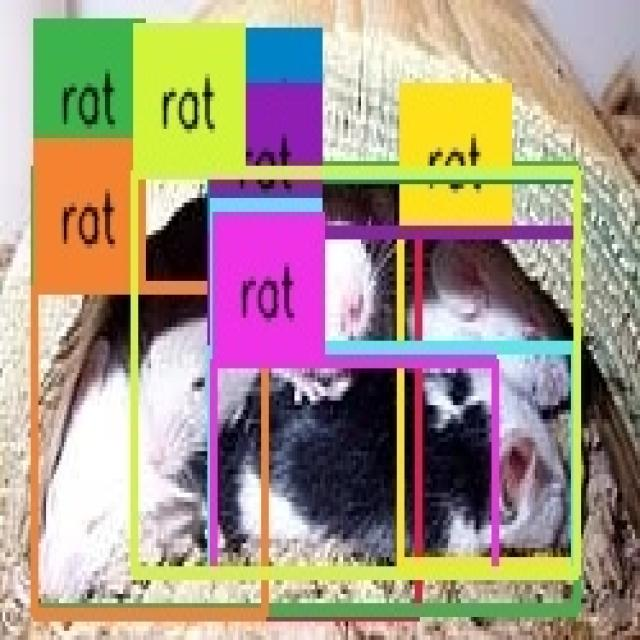rat: (35, 168, 577, 610), (136, 173, 576, 573), (34, 172, 418, 614), (211, 177, 577, 574), (211, 233, 577, 573), (212, 348, 576, 573), (35, 288, 265, 614), (213, 362, 494, 574), (402, 233, 576, 564)
